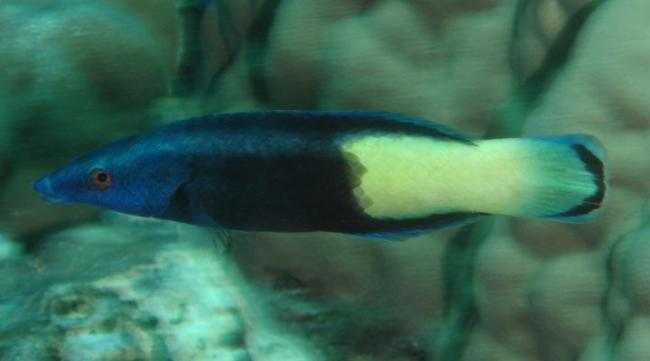fish: (34, 109, 607, 242)
